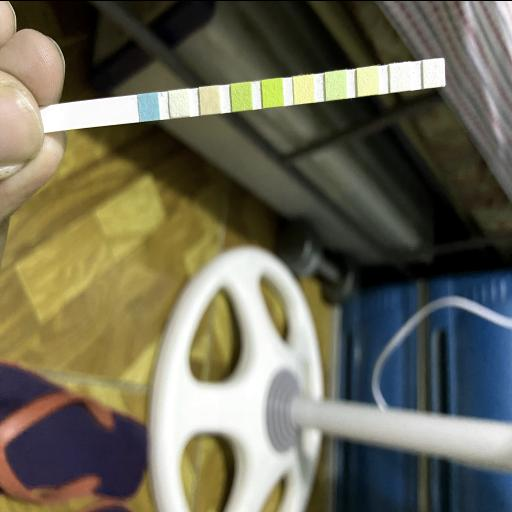Bilirubin: (170, 90, 188, 116)
Blood: (262, 79, 282, 105)
Glucose: (140, 93, 158, 119)
Ketone: (200, 86, 220, 112)
Leukocytes: (424, 59, 444, 86)
Nitrite: (390, 63, 410, 89)
Protein: (327, 72, 346, 98)
SpGravity: (232, 83, 251, 109)
Urobilinogen: (358, 67, 378, 93)
pH: (294, 76, 314, 102)
strip: (44, 57, 446, 132)
